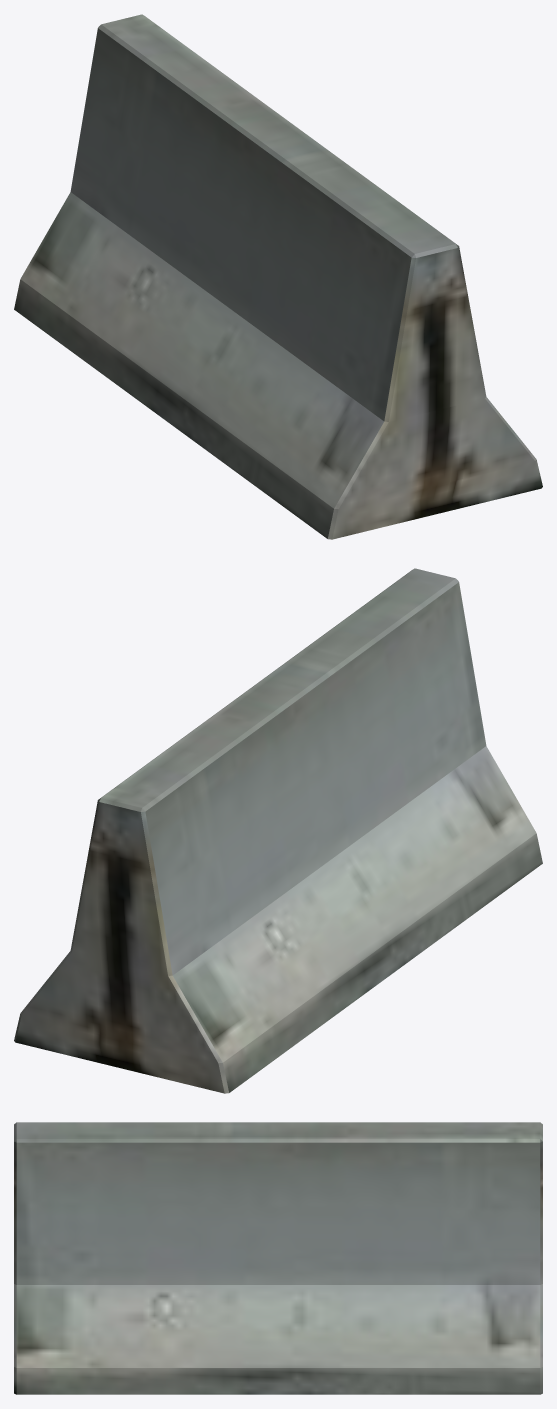
The model's file is Sketchfab_2023_02_22_22_43_05.fbx.
The picture shows the model from 3 angles, top to bottom: view 1: azimuth 30°, elevation 25°; view 2: azimuth 150°, elevation 25°; view 3: azimuth 270°, elevation 25°; orthographic projection. The views are drawn at different scales.
Parts seen in each view (by area): view 1: Cube; view 2: Cube; view 3: Cube.
Boxes of the visible parts, box(x1,y1,x2,y2) form: Cube: box(14, 14, 542, 539); Cube: box(14, 568, 542, 1093); Cube: box(14, 1122, 542, 1394).
Bounding box in the file's own units: 94.17 × 110 × 240.
